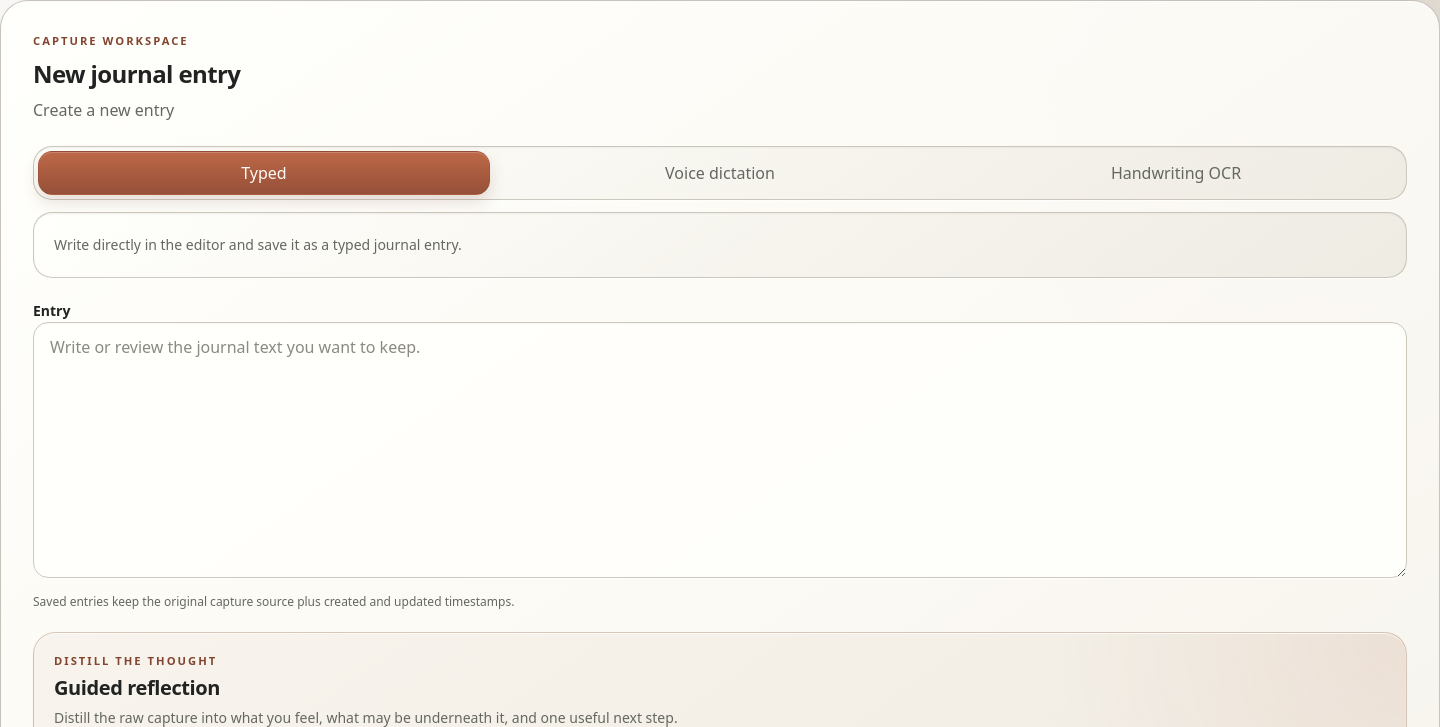
it: JournalCaptureForm › aborts and ignores stale reflection assistance after edits
This screenshot has width=1440, height=727.
Type "A raw draft" into the text box labelled "Entry" at (720, 450), box 33,322 -> 1407,578
(page scrolled)
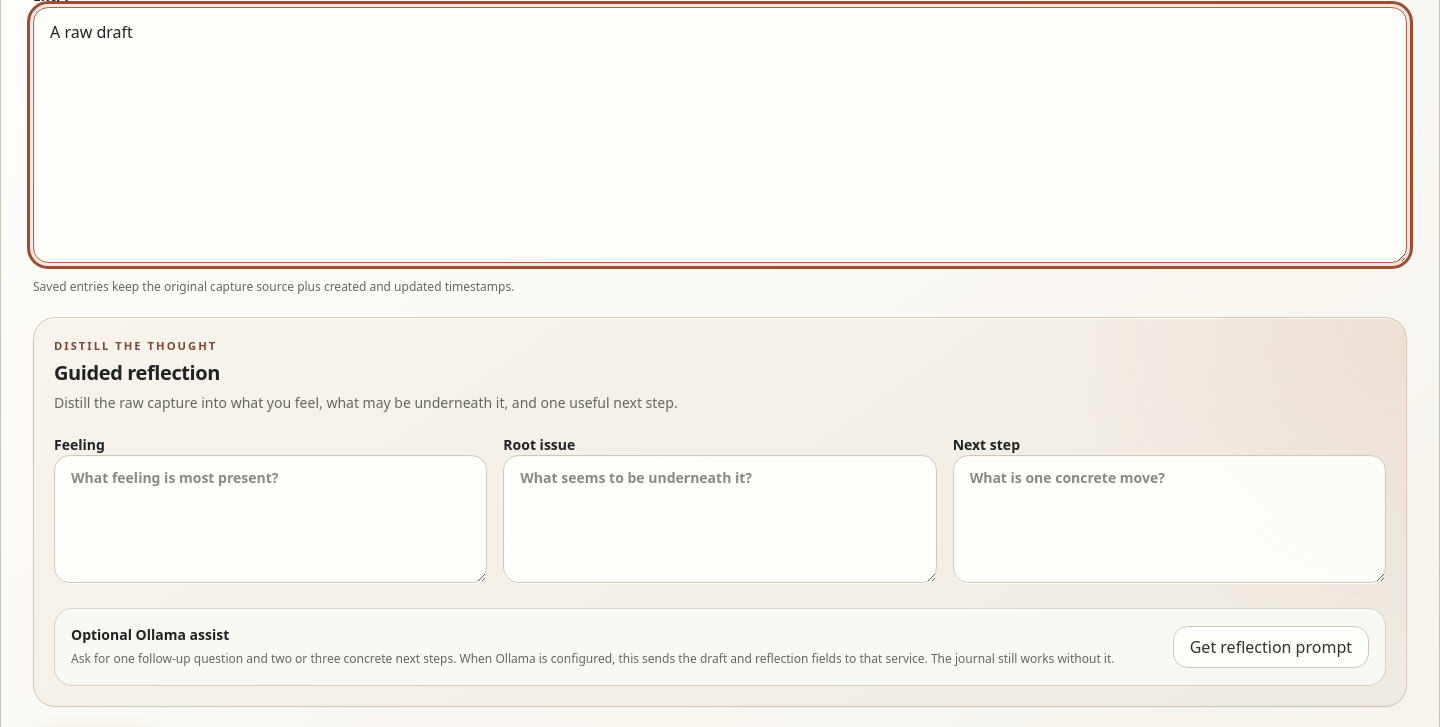
Click the button "Get reflection prompt" at (1271, 647), box 1173,626 -> 1369,668
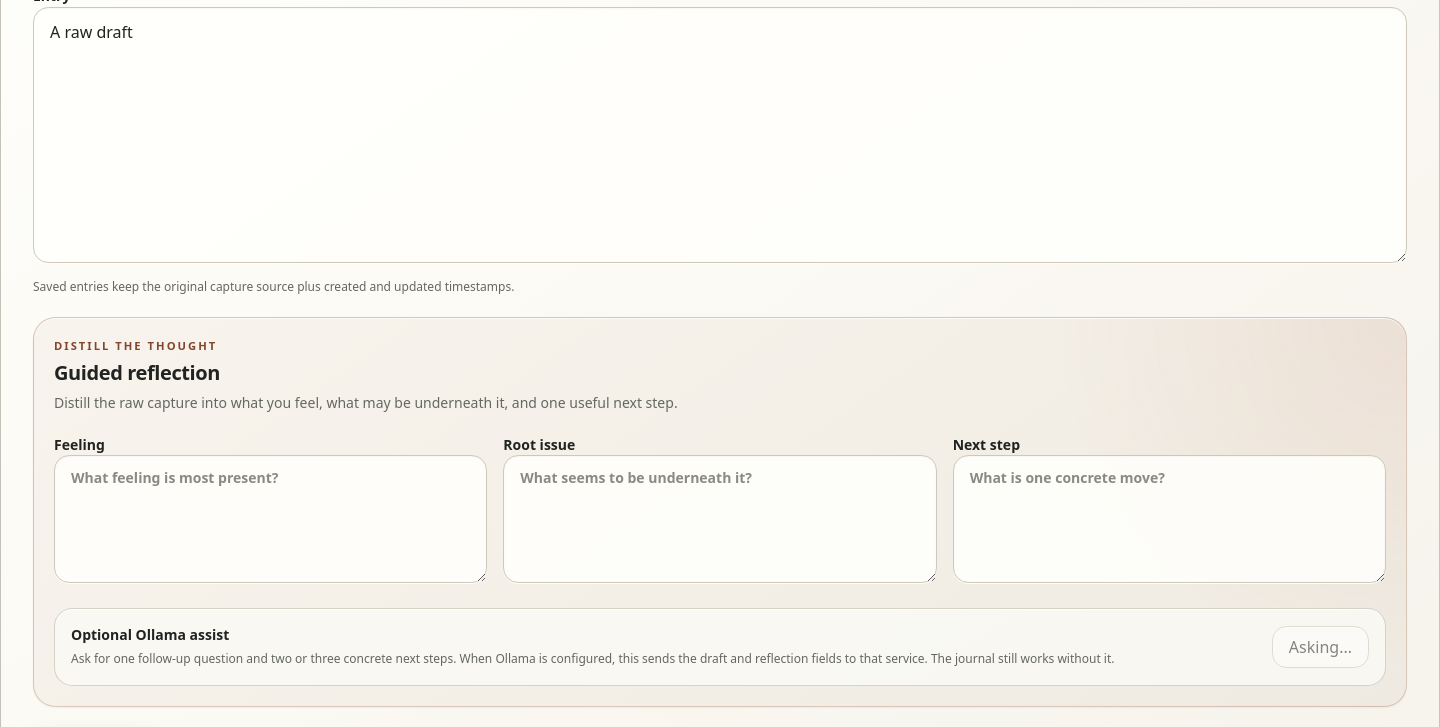
Type " changed" into the text box labelled "Entry" at (720, 135), box 33,7 -> 1407,263
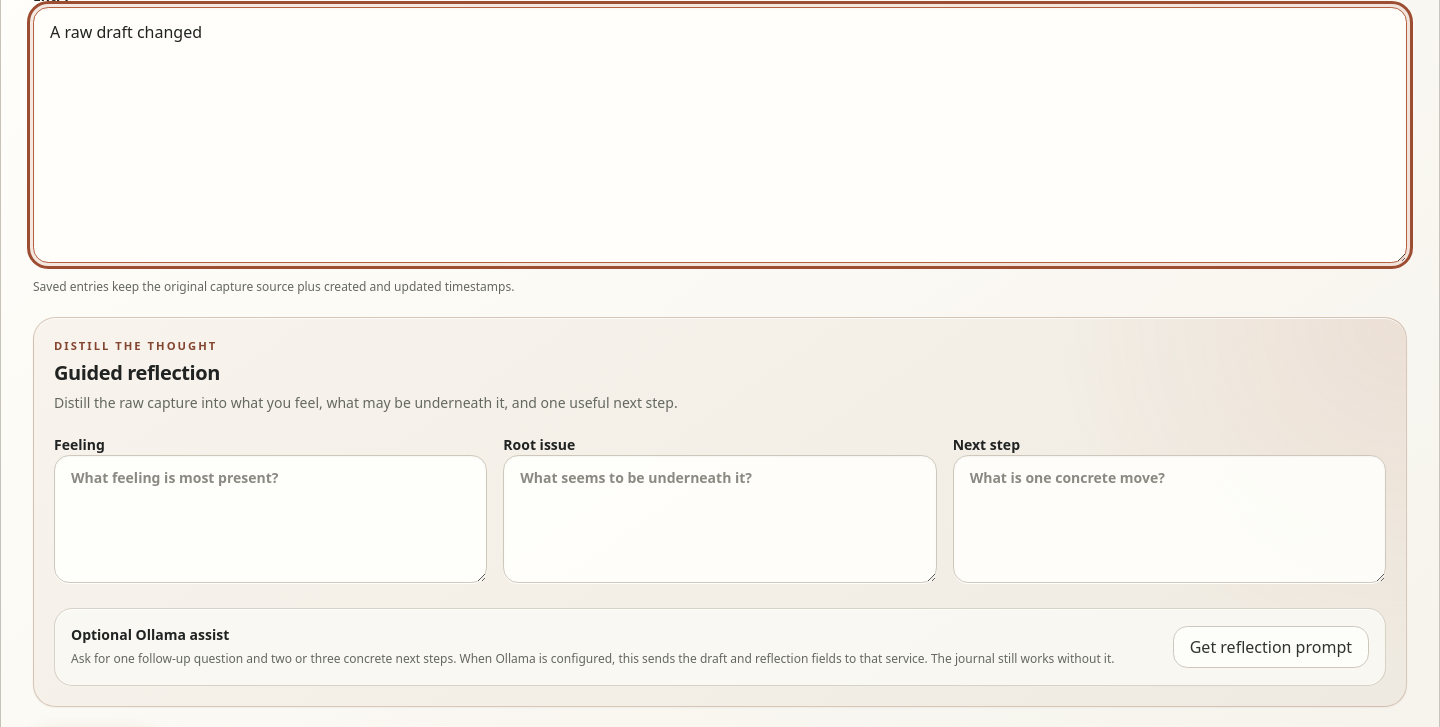
Now the button "Get reflection prompt" is enabled, box 1173,626 -> 1369,668
